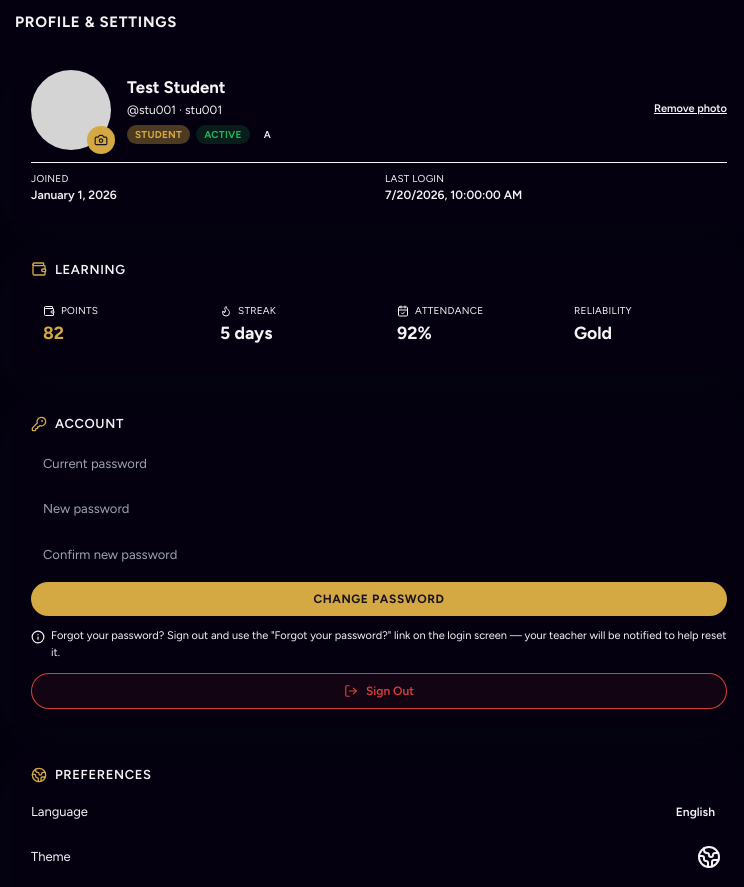
remove photo calls deleteStudentAvatar and falls back to initials
Click the button with test id "profile-avatar-remove-btn" at (690, 110), box [654,101,727,118]
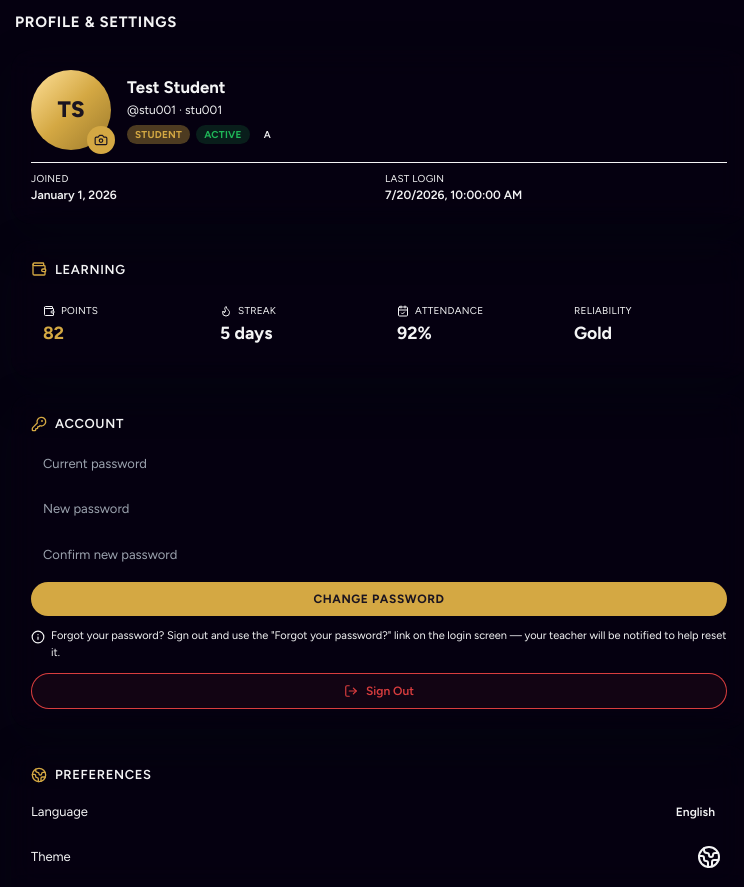
Now the picture with test id "profile-avatar-image" is gone
